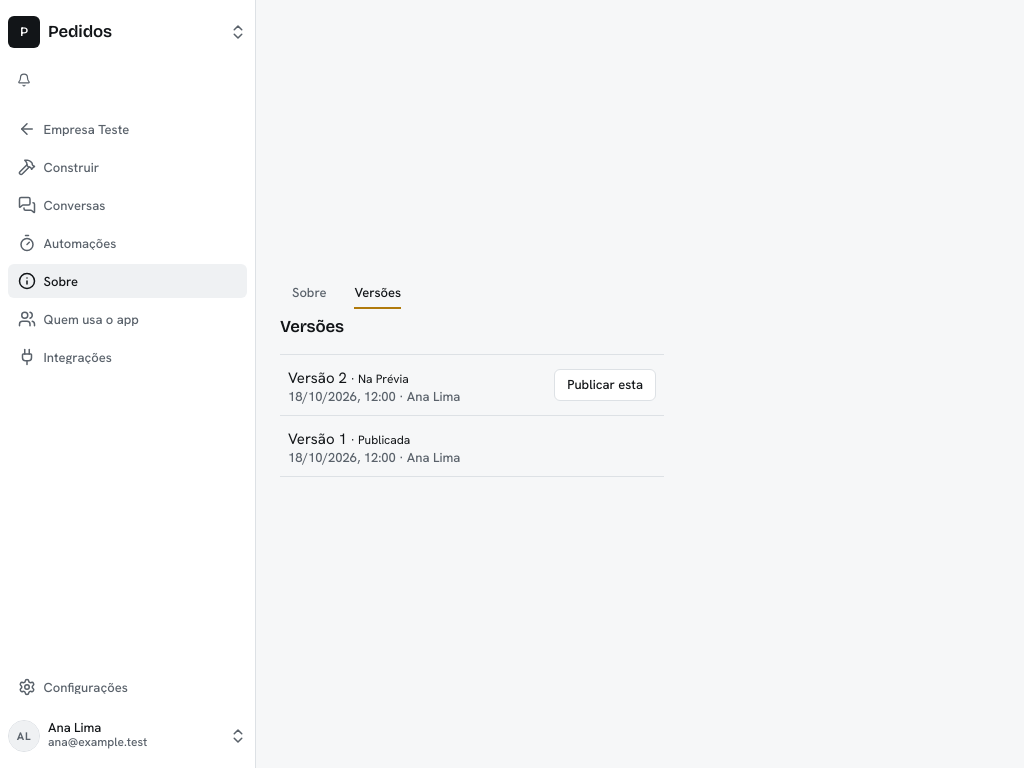
it: Publicar esta: a pergunta e o aviso "Quem abrir o app passa a ver esta versão."; Cancelar não envia
(page scrolled)
Expected: the heading "Versões" is shown, [280,316,344,337]
Expected: the text "Versão 2 · Na Prévia" is shown, [288,368,409,388]
Click the button "Publicar esta".
click(605, 385)  # box [554,369,656,401]
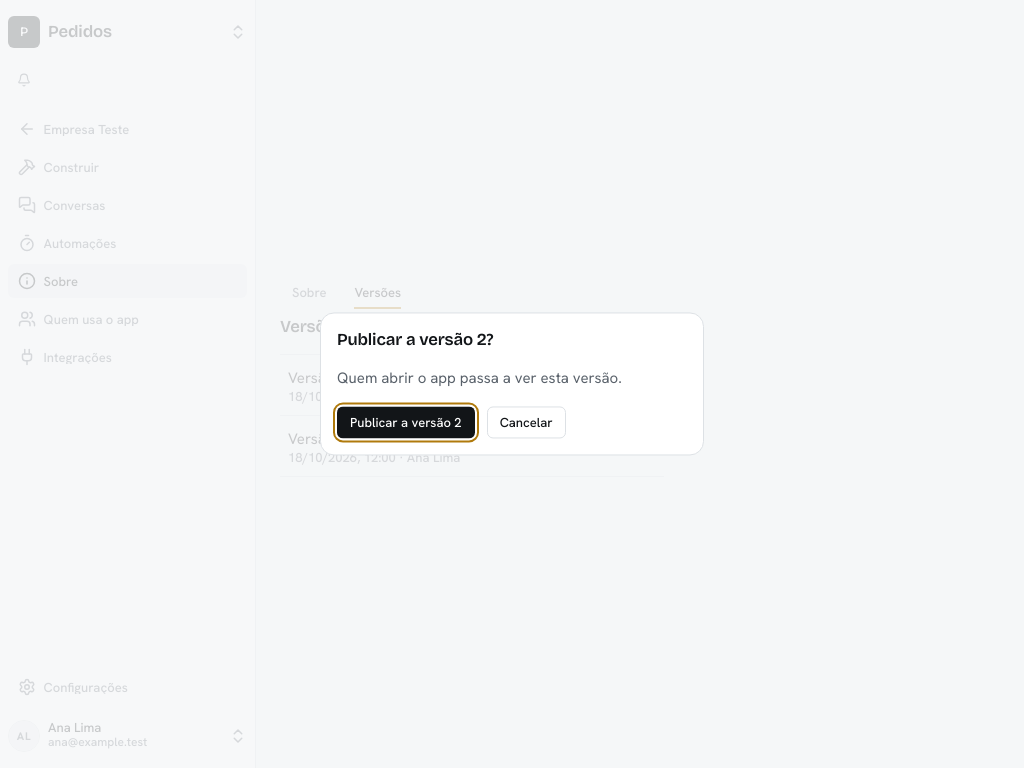
Now the dialog is shown, box [320,312,704,456]
Now the dialog shows "Publicar a versão 2?", box [337,330,493,350]
Now the dialog shows "Quem abrir o app passa a ver esta versão.", box [337,368,622,388]
Click the button "Cancelar".
click(526, 422)  # box [487,406,566,438]
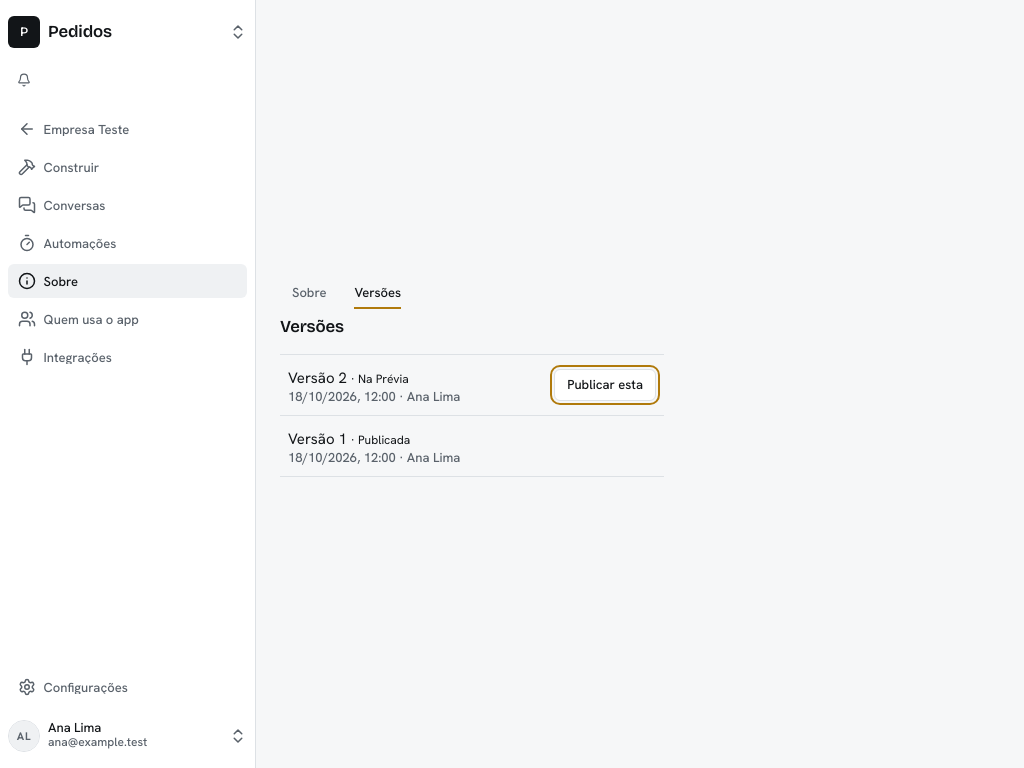
Now the dialog is gone
